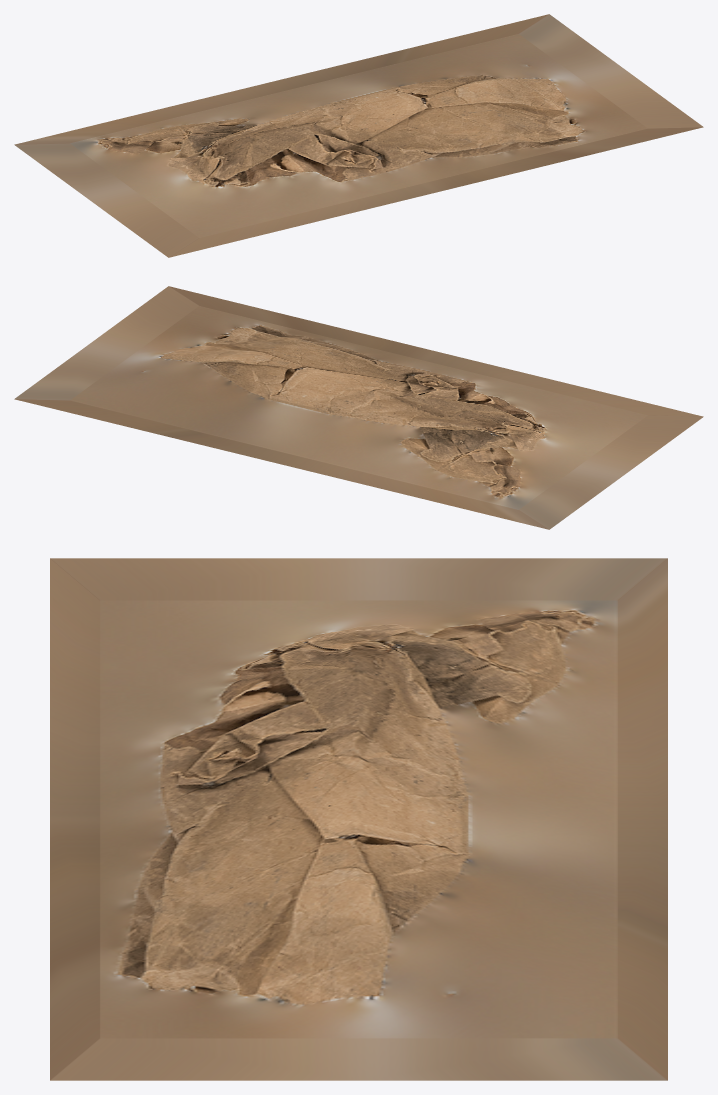
File: sm_Paper_01_02.fbx
3 views of the same model, one above another, from view 1: azimuth 30°, elevation 25°; view 2: azimuth 150°, elevation 25°; view 3: azimuth 270°, elevation 25° (orthographic). The views are drawn at different scales.
Parts seen in each view (by area): view 1: sm_Paper_01_02_LOD0; view 2: sm_Paper_01_02_LOD0; view 3: sm_Paper_01_02_LOD0.
Boxes of the visible parts, bbox=[...] form: sm_Paper_01_02_LOD0: bbox=[14, 14, 703, 257]; sm_Paper_01_02_LOD0: bbox=[14, 286, 703, 529]; sm_Paper_01_02_LOD0: bbox=[50, 558, 667, 1080].
Size of the model in its own units: 48.3 by 24.15 by 1.95.
